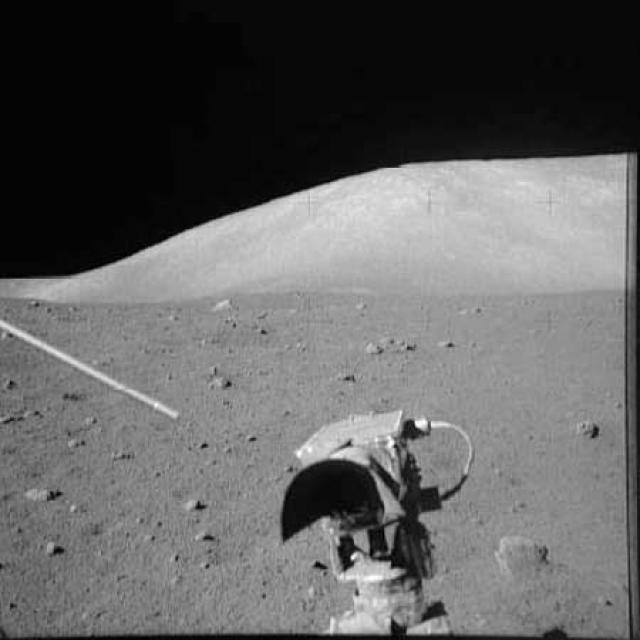artifact: (270, 396, 484, 638), (0, 306, 188, 431)
rock: (489, 526, 548, 582), (360, 325, 417, 364), (566, 410, 608, 446), (16, 479, 62, 508), (201, 364, 235, 390), (208, 290, 242, 315), (34, 537, 66, 561)
